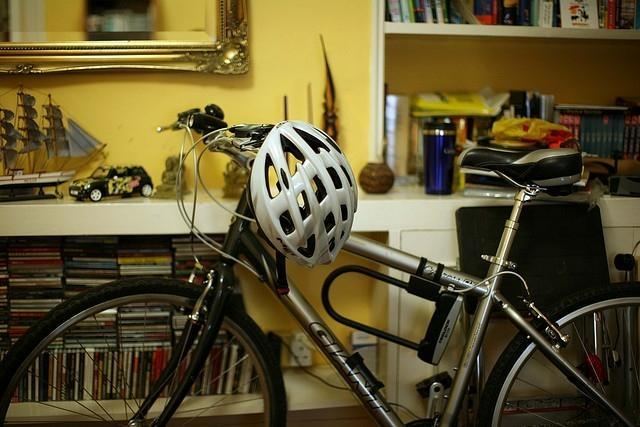bicycle: (0, 104, 640, 423)
car: (68, 165, 155, 202)
